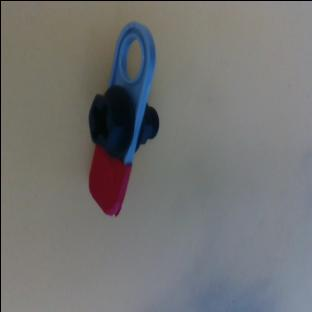part_1_good: (57, 16, 189, 219)
